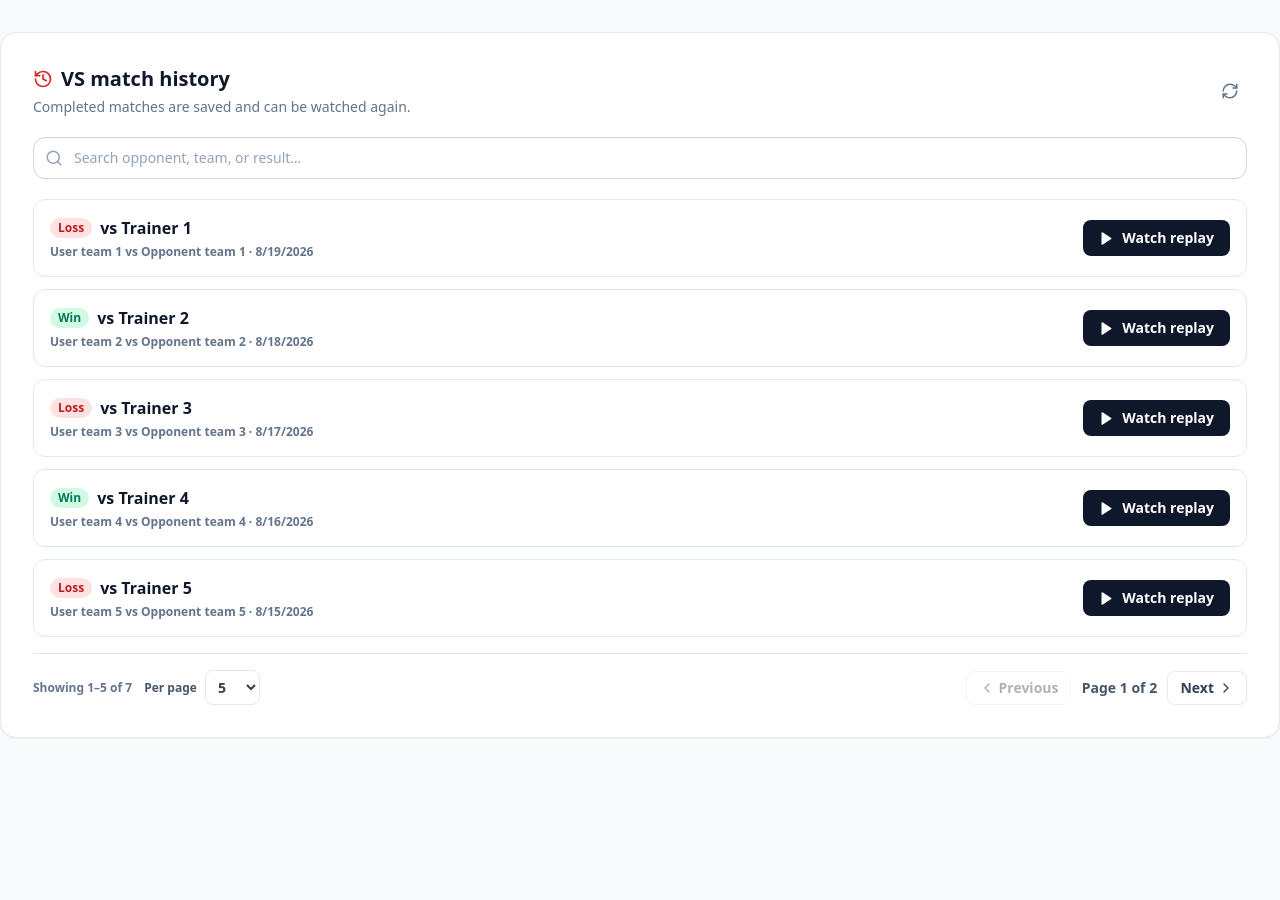
Test: VsMatchHistory search and pagination › filters by opponent, team, and result and returns to the first page
The width and height of the screenshot is (1280, 900).
Expected: the heading "vs Trainer 1" is shown, [100,216,192,240]
Click the button with aria-label "Next replays page" at x=1207, y=688, box [1168,670,1247,704]
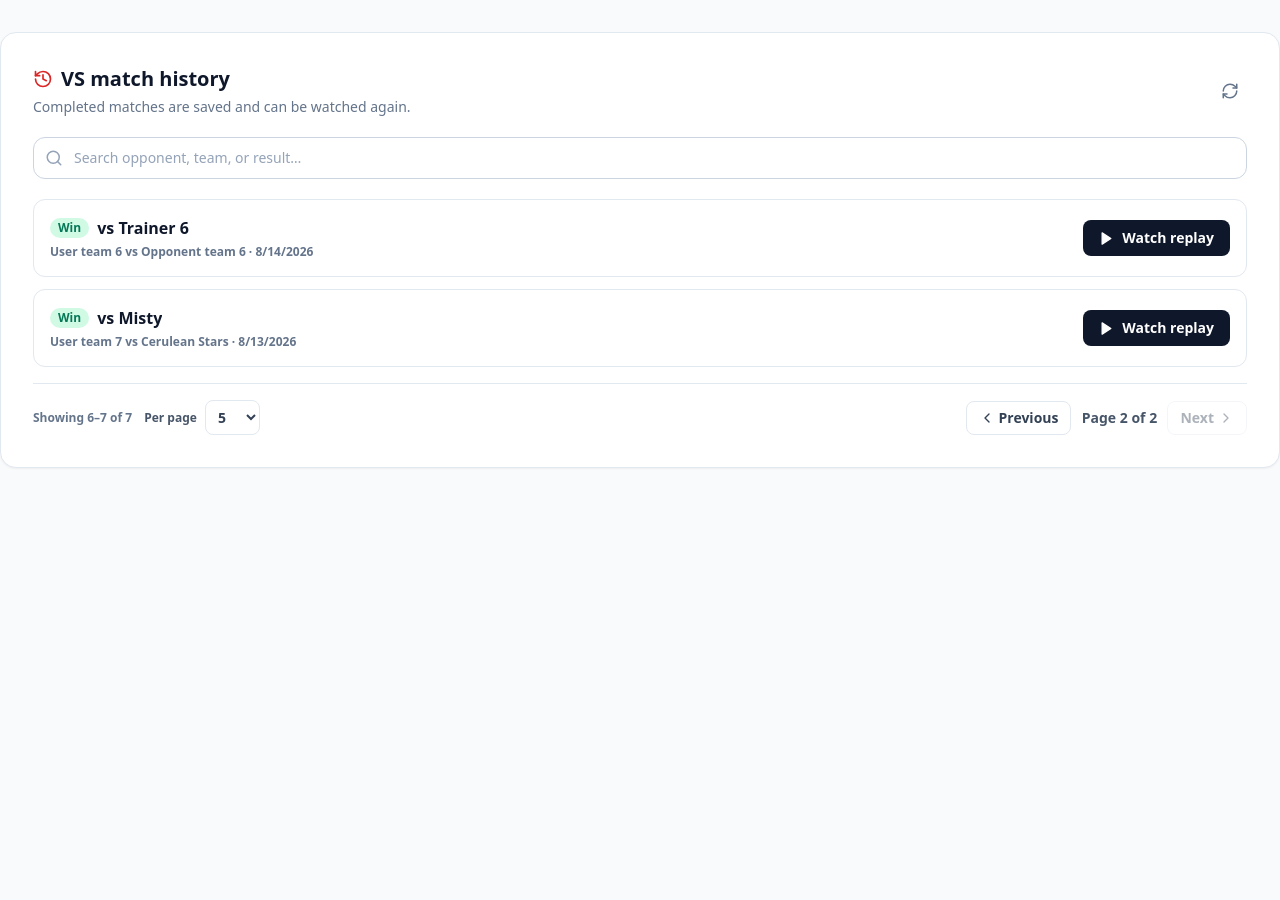
Type "cerulean" into the search field named "Search replays" at x=640, y=158, box [33,137,1247,179]
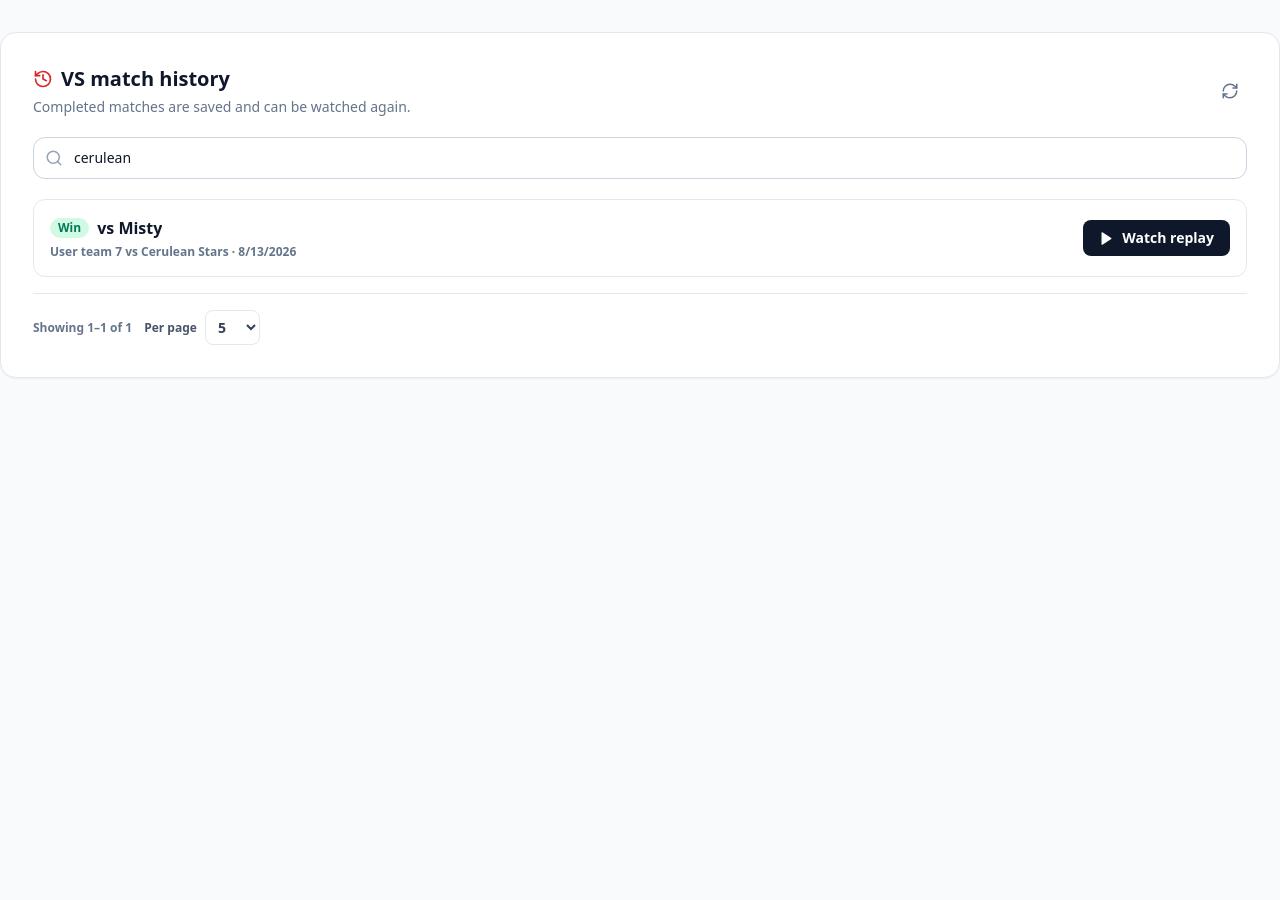
Expected: the heading "vs Misty" is shown, [97,216,162,240]
Expected: the heading "vs Trainer 6" is gone
Replace the text in the search field named "Search replays" with "does-not-exist" at x=640, y=158, box [33,137,1247,179]
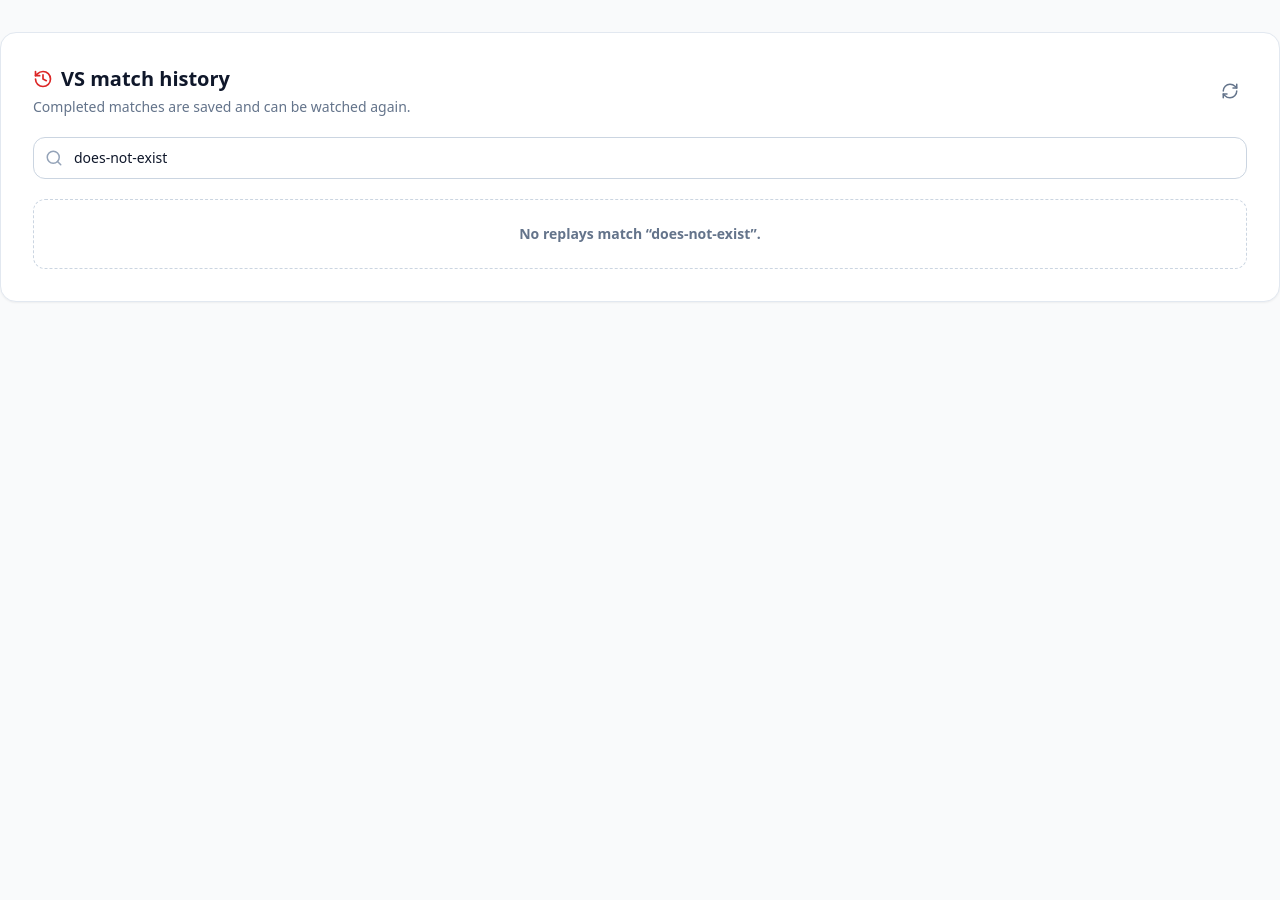
Expected: the text "No replays match “does-not-exist”." is shown, [33,199,1247,269]
